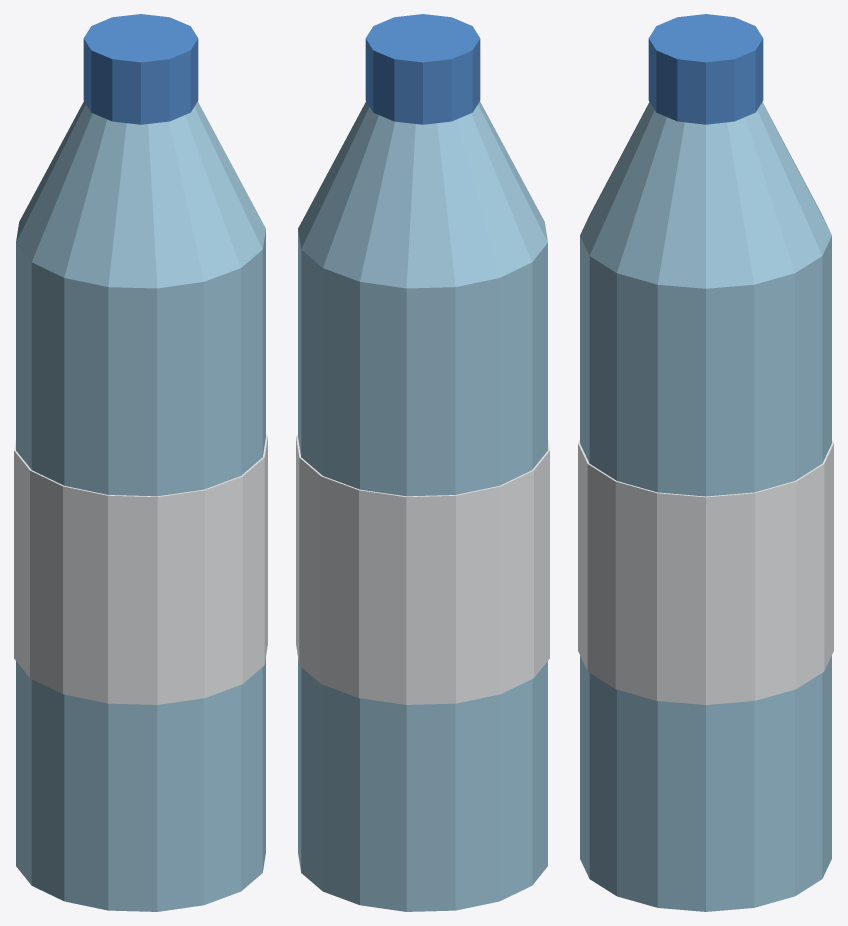
The model's file is Loot_WaterBottle.fbx.
3 renders of one model, left to right at view 1: azimuth 30°, elevation 25°; view 2: azimuth 150°, elevation 25°; view 3: azimuth 270°, elevation 25°, orthographic.
Visible parts, largest first — view 1: Loot_WaterBottle; view 2: Loot_WaterBottle; view 3: Loot_WaterBottle.
Boxes of the visible parts, <box> form: Loot_WaterBottle: <box>14,14,267,911</box>; Loot_WaterBottle: <box>296,14,549,911</box>; Loot_WaterBottle: <box>578,14,833,911</box>.
Bounding box in the file's own units: 0.067 × 0.237 × 0.067.
